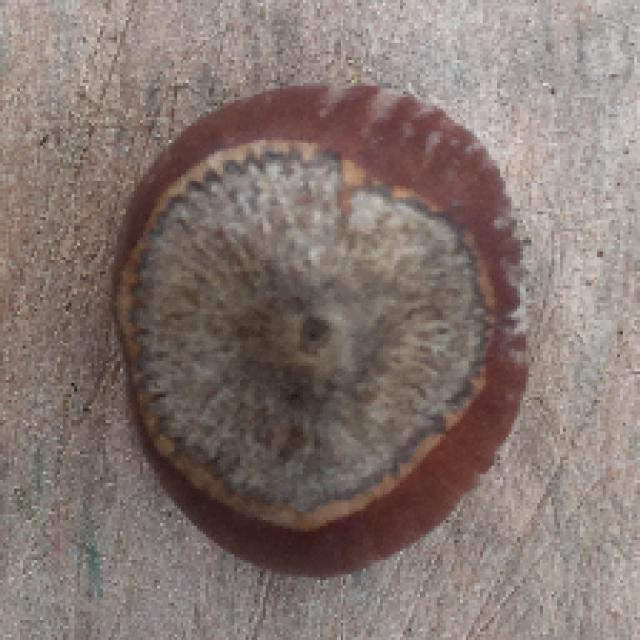qualityHazelnut: (103, 82, 524, 578)
